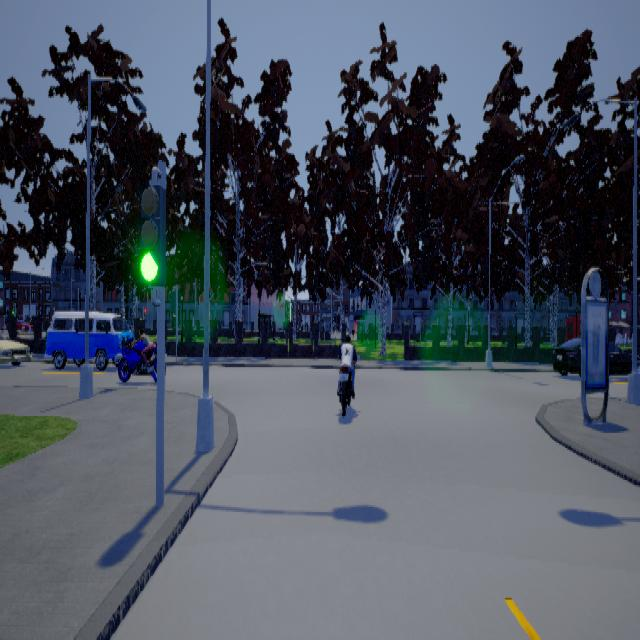green_light: (139, 165, 167, 305)
motobike: (335, 332, 360, 416), (122, 327, 158, 382)
vehicle: (45, 308, 130, 369), (553, 332, 633, 374), (1, 333, 33, 364)
